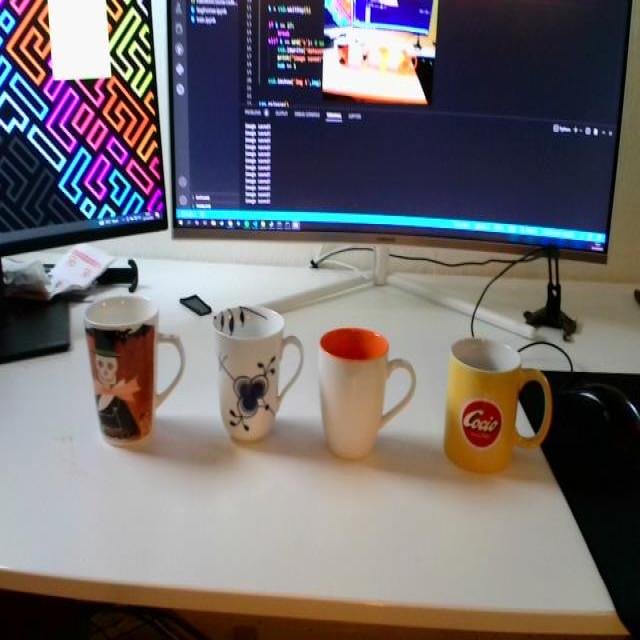cup: (71, 283, 191, 457), (438, 325, 562, 484), (314, 307, 426, 470), (210, 285, 303, 451)
